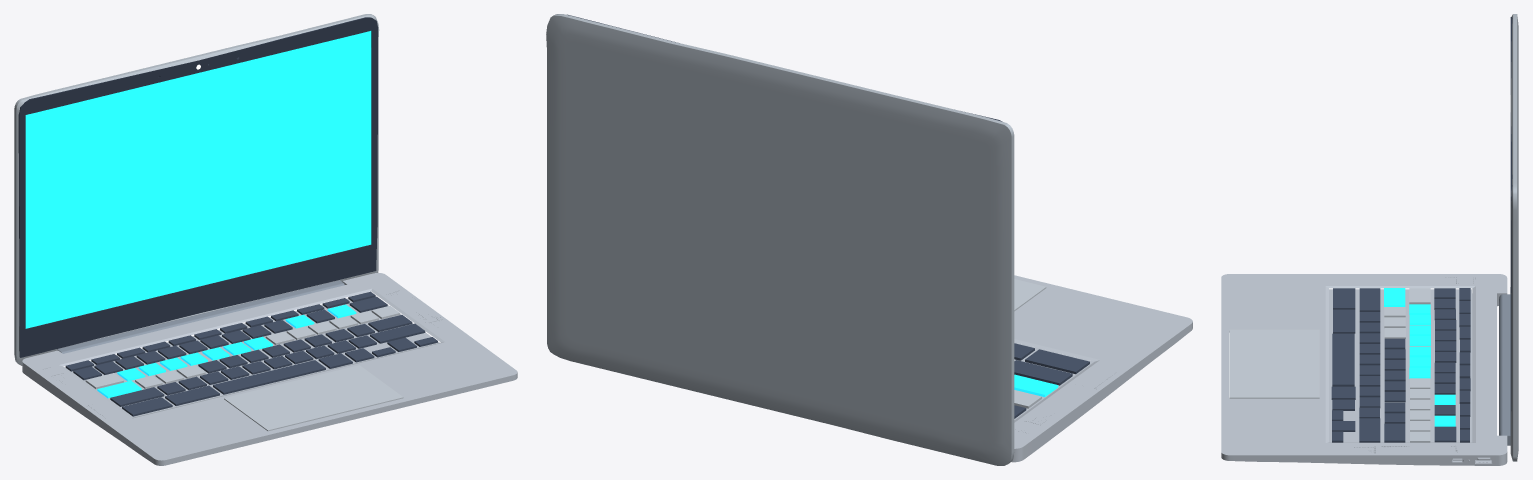
Rendered from kannettava.glb.
The picture shows the model from 3 angles, left to right: view 1: azimuth 30°, elevation 25°; view 2: azimuth 150°, elevation 25°; view 3: azimuth 270°, elevation 25°; orthographic projection. The views are drawn at different scales.
Visible parts, largest first — view 1: LAPTOP LAPTOP_PARTS3 black, white LAPTOP LAPTOP_PARTS84 (×4), white LAPTOP LAPTOP_PARTS82, LAPTOP_PARTS4 white LAPTOP, white LAPTOP polySurface1, white LAPTOP LAPTOP_PARTS83, white LAPTOP LAPTOP_PARTS1, LAPTOP black LAPTOP_PARTS73, LAPTOP black LAPTOP_PARTS72, LAPTOP black LAPTOP_PARTS59, LAPTOP black LAPTOP_PARTS70, LAPTOP black LAPTOP_PARTS71; view 2: white LAPTOP polySurface1, white LAPTOP LAPTOP_PARTS84 (×2), LAPTOP black LAPTOP_PARTS71, LAPTOP black LAPTOP_PARTS70; view 3: white LAPTOP LAPTOP_PARTS84 (×4), LAPTOP_PARTS4 white LAPTOP, white LAPTOP LAPTOP_PARTS83, white LAPTOP polySurface1, white LAPTOP LAPTOP_PARTS1, LAPTOP black LAPTOP_PARTS73, white LAPTOP LAPTOP_PARTS82, LAPTOP black LAPTOP_PARTS72, LAPTOP black LAPTOP_PARTS59, LAPTOP black LAPTOP_PARTS70, LAPTOP black LAPTOP_PARTS71, LAPTOP black LAPTOP_PARTS58 (+4 smaller).
Boxes of the visible parts, bbox=[...] form: LAPTOP LAPTOP_PARTS3 black: bbox=[25, 31, 371, 328]; white LAPTOP LAPTOP_PARTS84 (×4): bbox=[22, 273, 517, 465]; white LAPTOP LAPTOP_PARTS82: bbox=[18, 17, 377, 357]; LAPTOP_PARTS4 white LAPTOP: bbox=[224, 365, 403, 431]; white LAPTOP polySurface1: bbox=[14, 14, 379, 365]; white LAPTOP LAPTOP_PARTS83: bbox=[65, 296, 439, 417]; white LAPTOP LAPTOP_PARTS1: bbox=[57, 280, 344, 353]; LAPTOP black LAPTOP_PARTS73: bbox=[213, 360, 325, 394]; LAPTOP black LAPTOP_PARTS72: bbox=[165, 385, 219, 405]; LAPTOP black LAPTOP_PARTS59: bbox=[370, 323, 425, 343]; LAPTOP black LAPTOP_PARTS70: bbox=[110, 387, 164, 406]; LAPTOP black LAPTOP_PARTS71: bbox=[122, 397, 172, 416]; white LAPTOP polySurface1: bbox=[546, 14, 1014, 465]; white LAPTOP LAPTOP_PARTS84 (×2): bbox=[1011, 278, 1192, 462]; LAPTOP black LAPTOP_PARTS71: bbox=[1025, 349, 1089, 374]; LAPTOP black LAPTOP_PARTS70: bbox=[1014, 360, 1072, 385]; white LAPTOP LAPTOP_PARTS84 (×4): bbox=[1221, 274, 1507, 465]; LAPTOP_PARTS4 white LAPTOP: bbox=[1229, 329, 1319, 398]; white LAPTOP LAPTOP_PARTS83: bbox=[1329, 289, 1471, 442]; white LAPTOP polySurface1: bbox=[1510, 14, 1518, 461]; white LAPTOP LAPTOP_PARTS1: bbox=[1499, 294, 1510, 445]; LAPTOP black LAPTOP_PARTS73: bbox=[1332, 333, 1354, 386]; white LAPTOP LAPTOP_PARTS82: bbox=[1510, 17, 1512, 435]; LAPTOP black LAPTOP_PARTS72: bbox=[1333, 309, 1355, 333]; LAPTOP black LAPTOP_PARTS59: bbox=[1359, 418, 1380, 442]; LAPTOP black LAPTOP_PARTS70: bbox=[1359, 288, 1380, 311]; LAPTOP black LAPTOP_PARTS71: bbox=[1333, 288, 1355, 309]; LAPTOP black LAPTOP_PARTS58: bbox=[1384, 423, 1405, 442].
Bounding box in the file's own units: 19.68 × 13.98 × 13.62.
